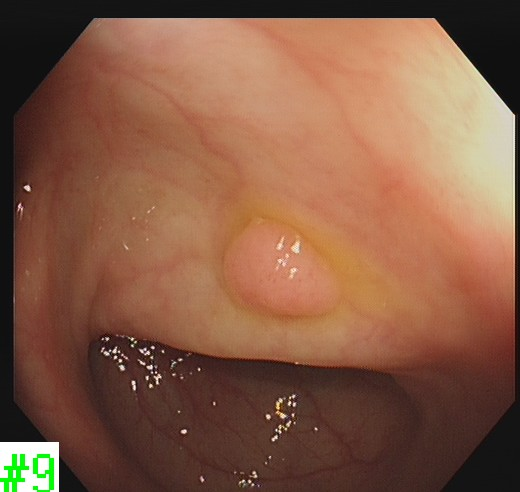adenoma: (217, 212, 342, 320)
